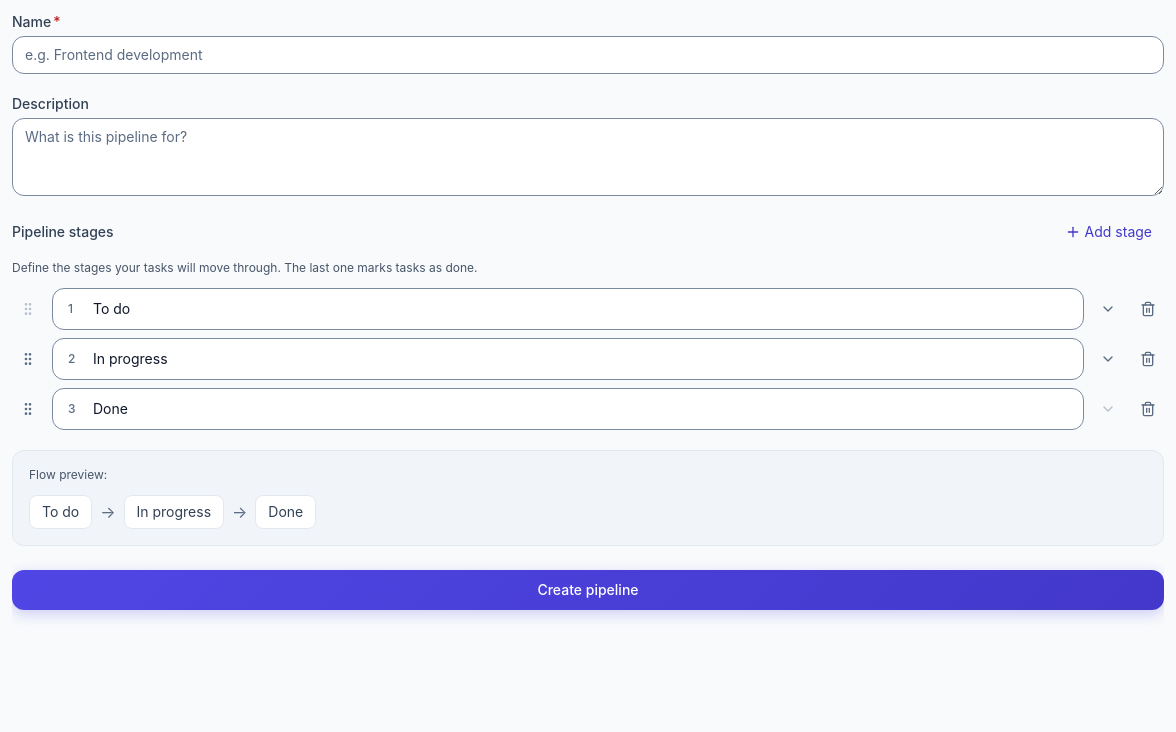
CreatePipelineForm stages › removes a row, renumbers the rest, and never lets the last one go
Click the button named "Remove stage 2" at point(1148, 359), box [1132,343,1164,375]
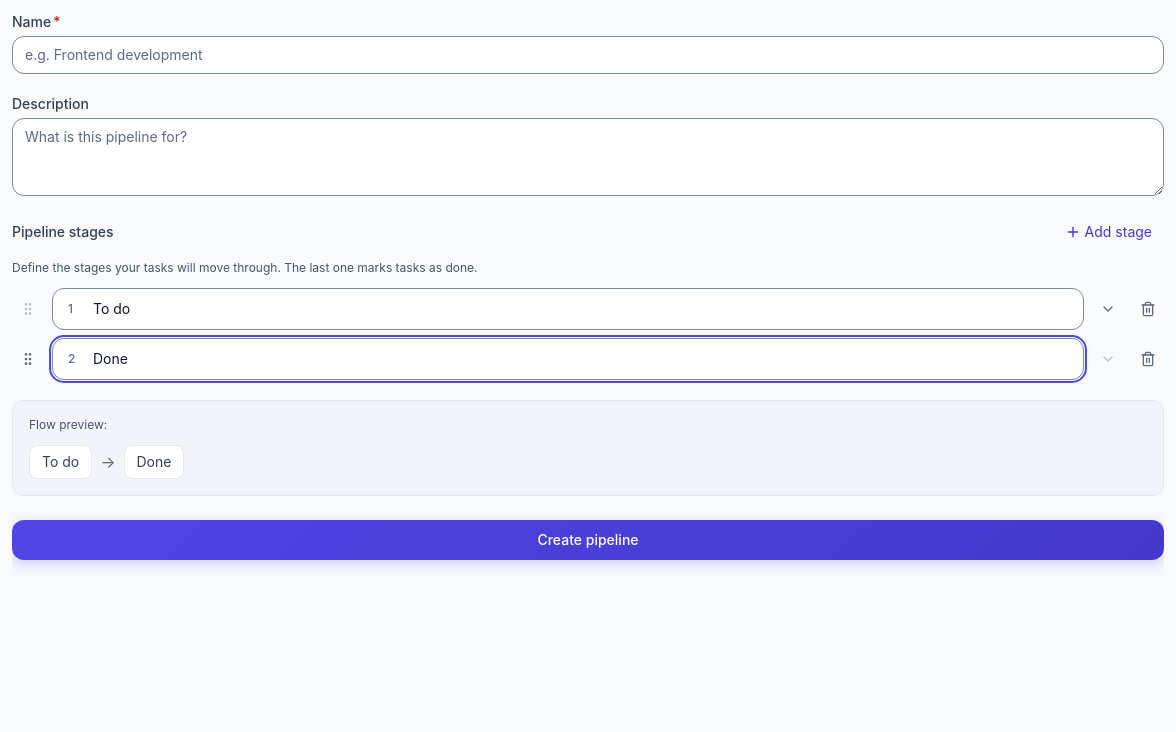
Result: the list "To do → Done" is shown at [29,445,184,479]
Click the button named "Remove stage 2" at point(1148, 359), box [1132,343,1164,375]
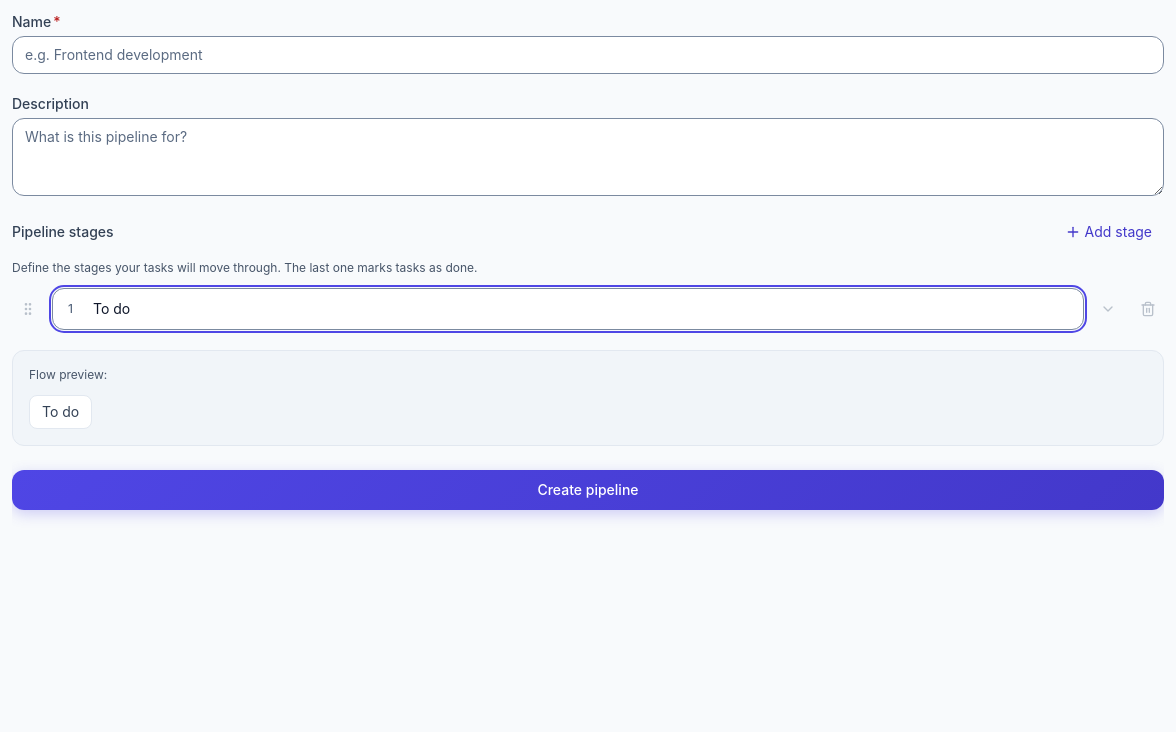
Result: the button named "Remove stage 1" is disabled at [1132,293,1164,325]
